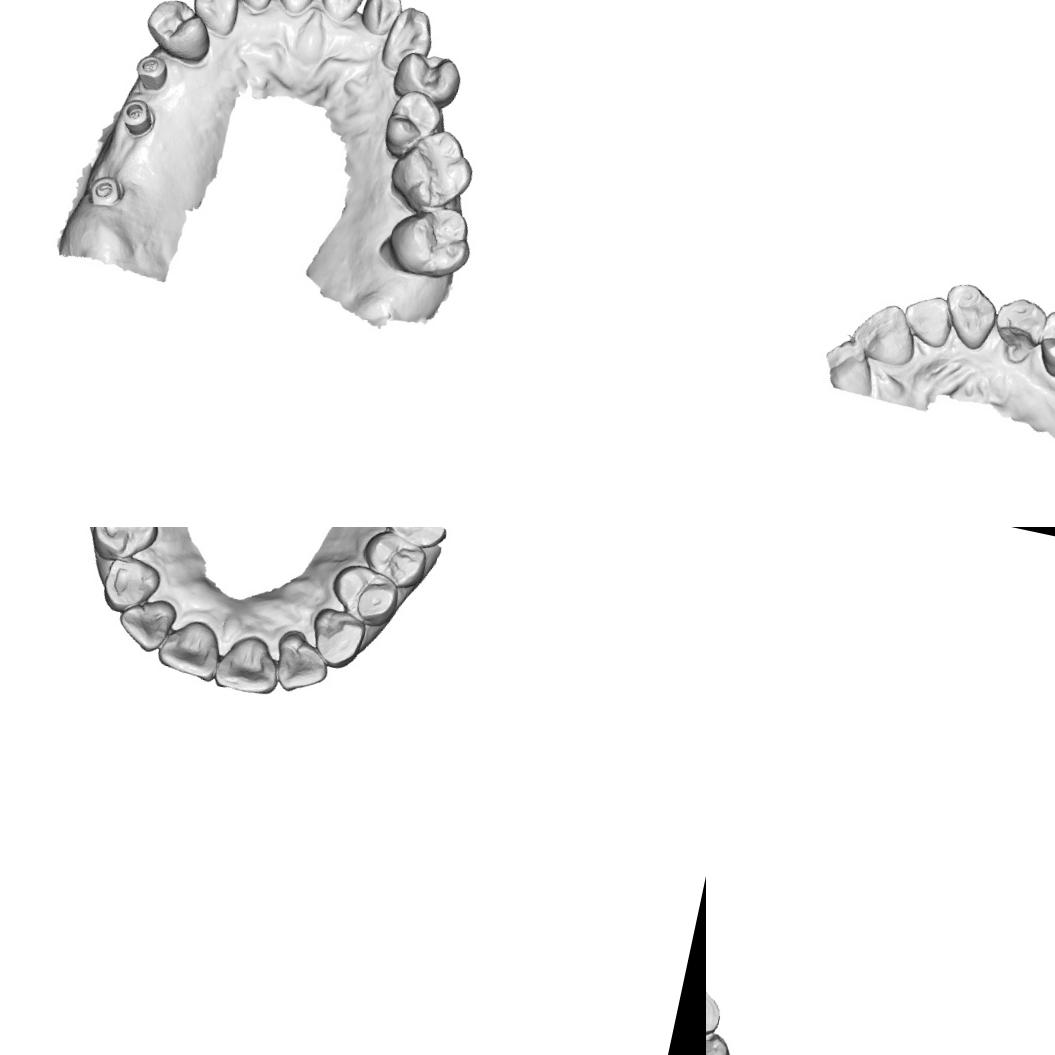canine: (936, 278, 1003, 353), (376, 1, 440, 79), (98, 551, 165, 619), (305, 604, 370, 672), (186, 0, 247, 38), (706, 982, 725, 1052)
implant: (115, 96, 158, 141), (84, 171, 128, 212), (131, 52, 172, 95)
incisor: (848, 297, 924, 369), (152, 614, 229, 685), (212, 630, 286, 698), (268, 626, 335, 698), (817, 333, 883, 400), (113, 591, 179, 656), (898, 288, 958, 351), (356, 0, 407, 41), (311, 0, 376, 26), (264, 0, 330, 20), (228, 0, 282, 16)
molar: (382, 119, 482, 222), (380, 194, 480, 286)
premolar: (324, 559, 404, 632), (378, 84, 448, 166), (138, 0, 219, 68), (388, 46, 467, 112), (355, 527, 432, 594), (990, 292, 1050, 355), (86, 527, 162, 570), (1032, 303, 1055, 382), (706, 1024, 738, 1055)
